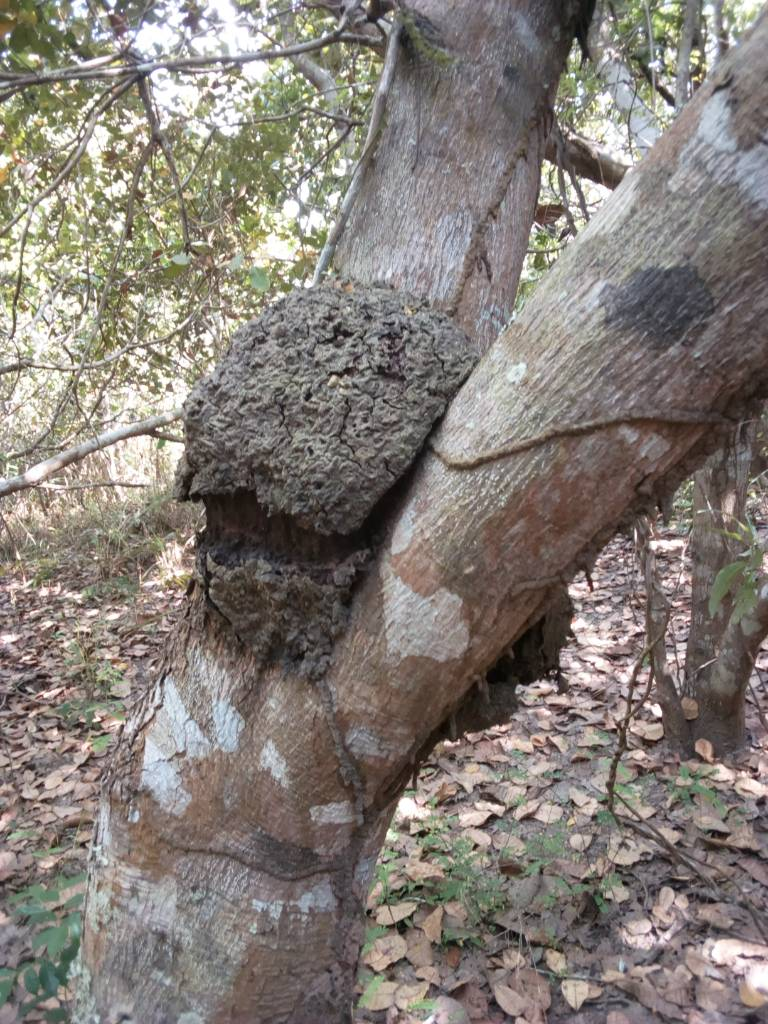Termites: (186, 294, 397, 616), (325, 761, 360, 1024)
